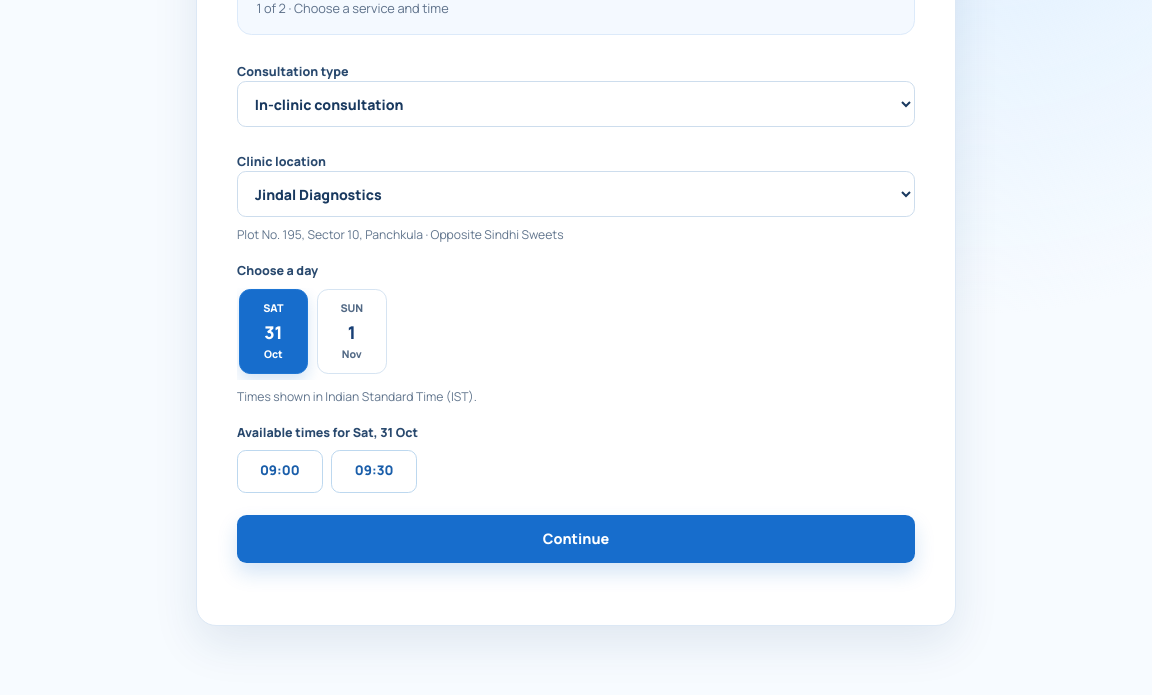
Test: an in-person request submits the chosen location, day and time without reserving it
The width and height of the screenshot is (1152, 695).
(page scrolled)
Click the button "09:00" at (280, 471), box [237, 450, 323, 493]
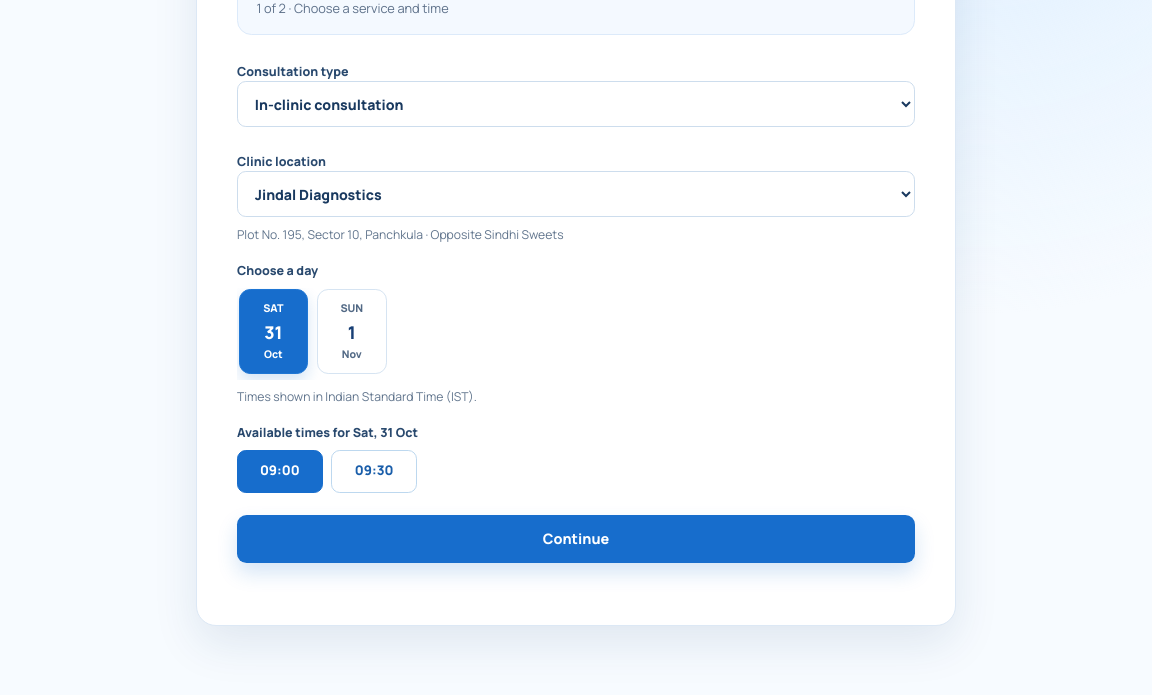
Click the button "Continue" at (576, 539), box [237, 515, 915, 563]
(page scrolled)
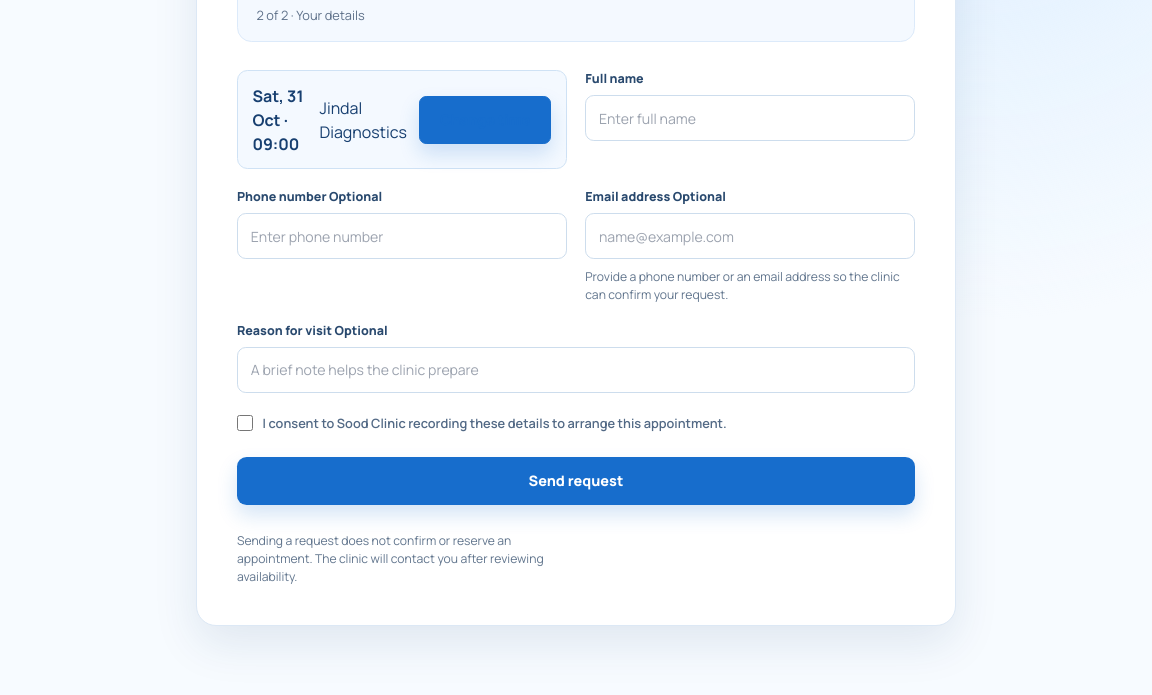
Type "Synthetic Patient" into the field labelled "Full name" at (750, 118), box [585, 95, 915, 141]
Type "+919000000001" into the field labelled "Phone number Optional" at (402, 236), box [237, 213, 567, 259]
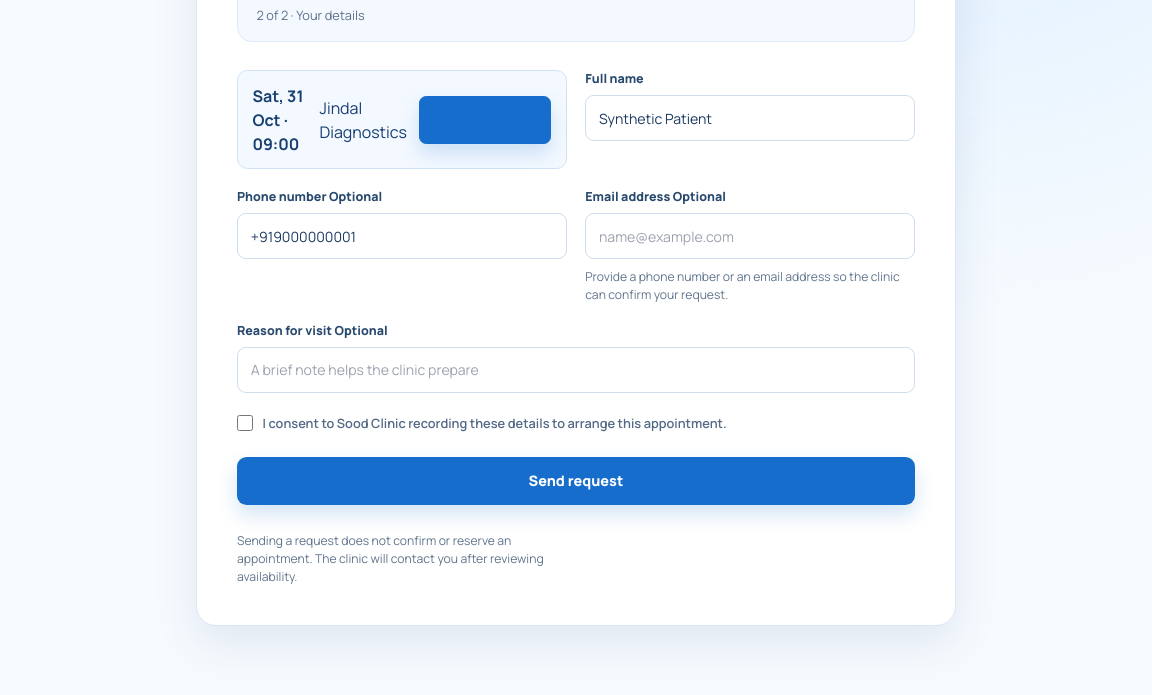
Type "Synthetic reason" into the field labelled "Reason for visit Optional" at (576, 370), box [237, 347, 915, 393]
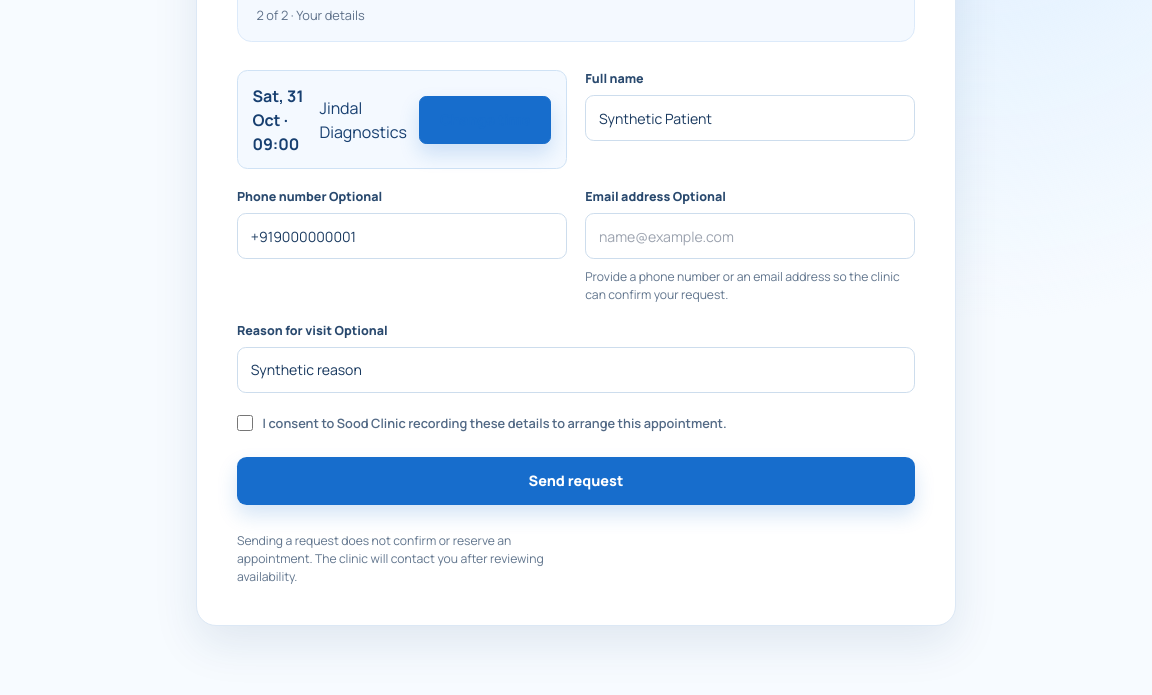
Click the checkbox at (245, 423), box [237, 415, 253, 431]
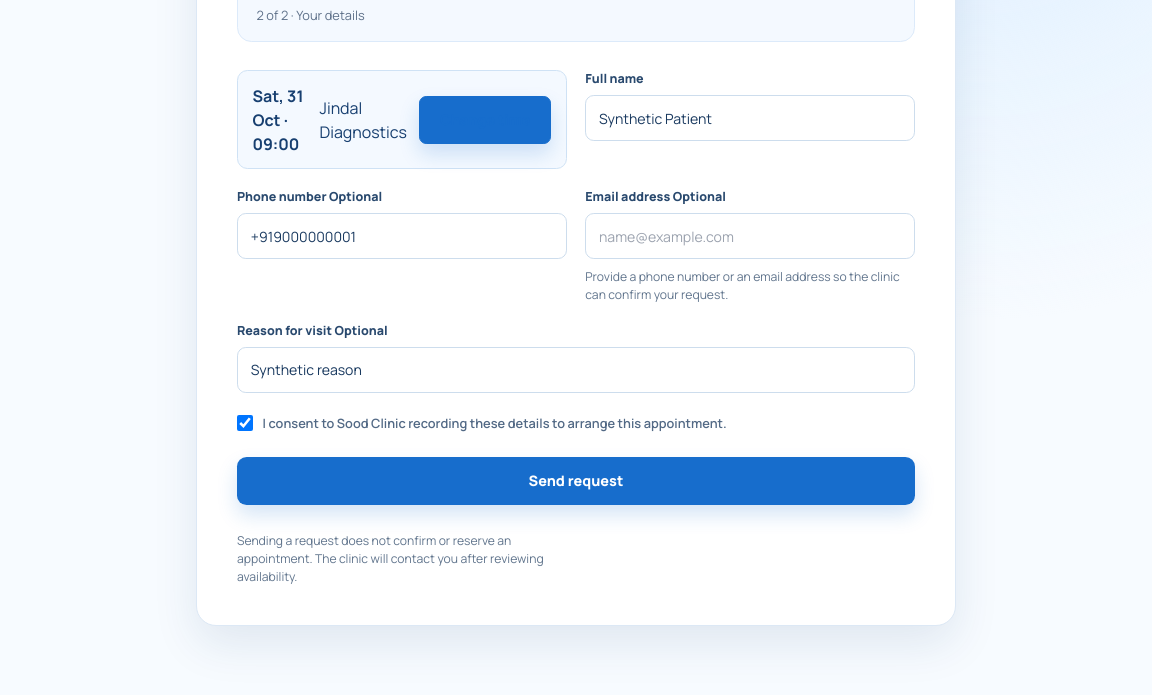
Click the button "Send request" at (576, 481), box [237, 457, 915, 505]
(page scrolled)
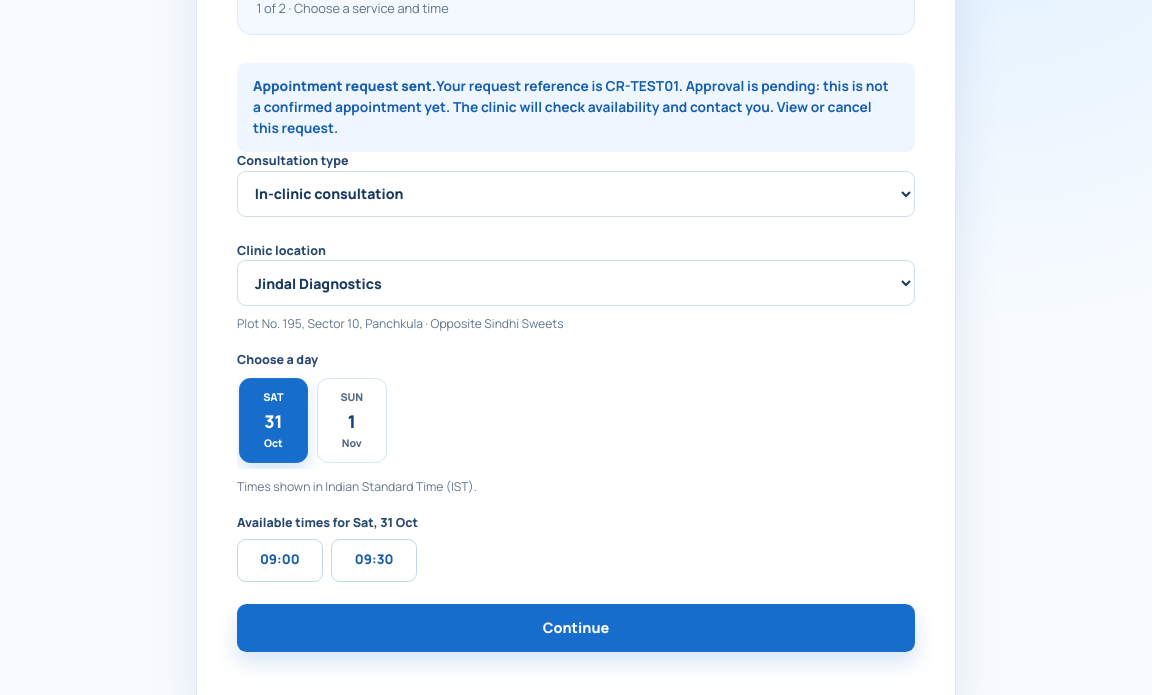
Expected: the button "09:00" is shown, [237, 539, 323, 582]
Expected: the text "Approval is pending" is shown, [253, 76, 889, 116]
Expected: the text "CR-TEST01" is shown, [606, 76, 679, 95]
